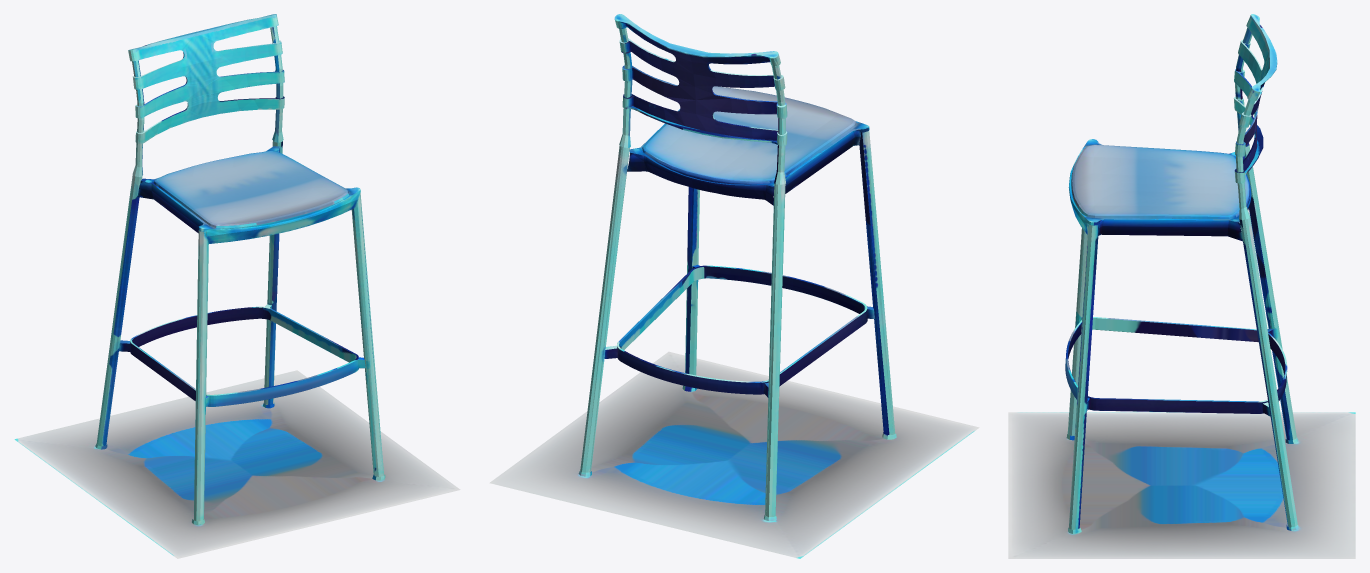
Rendered from edited_mesh.glb.
The picture shows the model from 3 angles, left to right: view 1: azimuth 30°, elevation 25°; view 2: azimuth 150°, elevation 25°; view 3: azimuth 270°, elevation 25°; orthographic projection. The views are drawn at different scales.
Parts seen in each view (by area): view 1: normalized_model.obj; view 2: normalized_model.obj; view 3: normalized_model.obj.
Boxes of the visible parts, box(x1,y1,x2,y2) form: normalized_model.obj: box(14, 14, 460, 558); normalized_model.obj: box(489, 14, 979, 558); normalized_model.obj: box(1008, 14, 1355, 558).
Size of the model in its own units: 1.45 by 2 by 1.45.
1 material, 1 textured.
